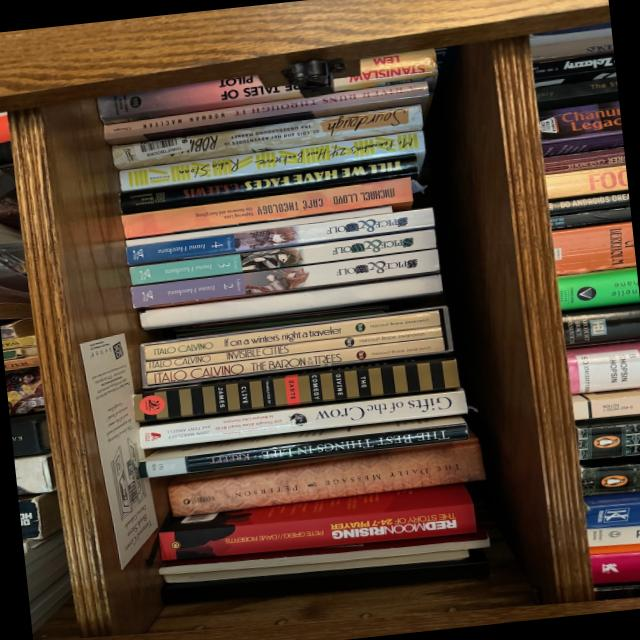book: (165, 433, 483, 517), (156, 483, 475, 564), (136, 411, 468, 479), (101, 80, 430, 147), (132, 356, 460, 422), (116, 131, 426, 199), (110, 104, 423, 171), (129, 246, 439, 312), (137, 388, 467, 450), (128, 226, 435, 287), (125, 207, 435, 267), (117, 154, 418, 215), (119, 177, 412, 239), (142, 307, 440, 362), (144, 336, 444, 387), (143, 324, 442, 373), (95, 68, 300, 126), (124, 204, 391, 248), (329, 48, 437, 92)
